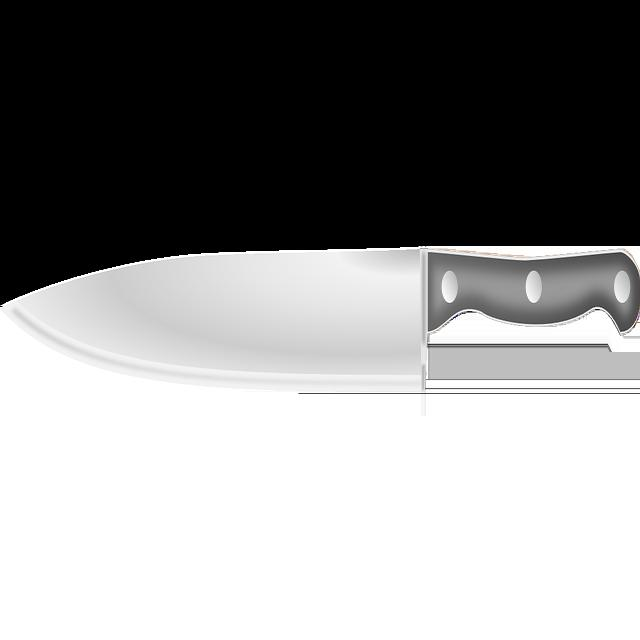Knife: (2, 247, 640, 414)
